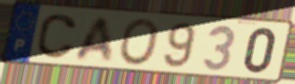0: (241, 26, 279, 75)
3: (201, 23, 238, 73)
9: (161, 21, 198, 70)
A: (72, 16, 115, 64)
C: (34, 12, 79, 61)
O: (117, 17, 161, 67)
